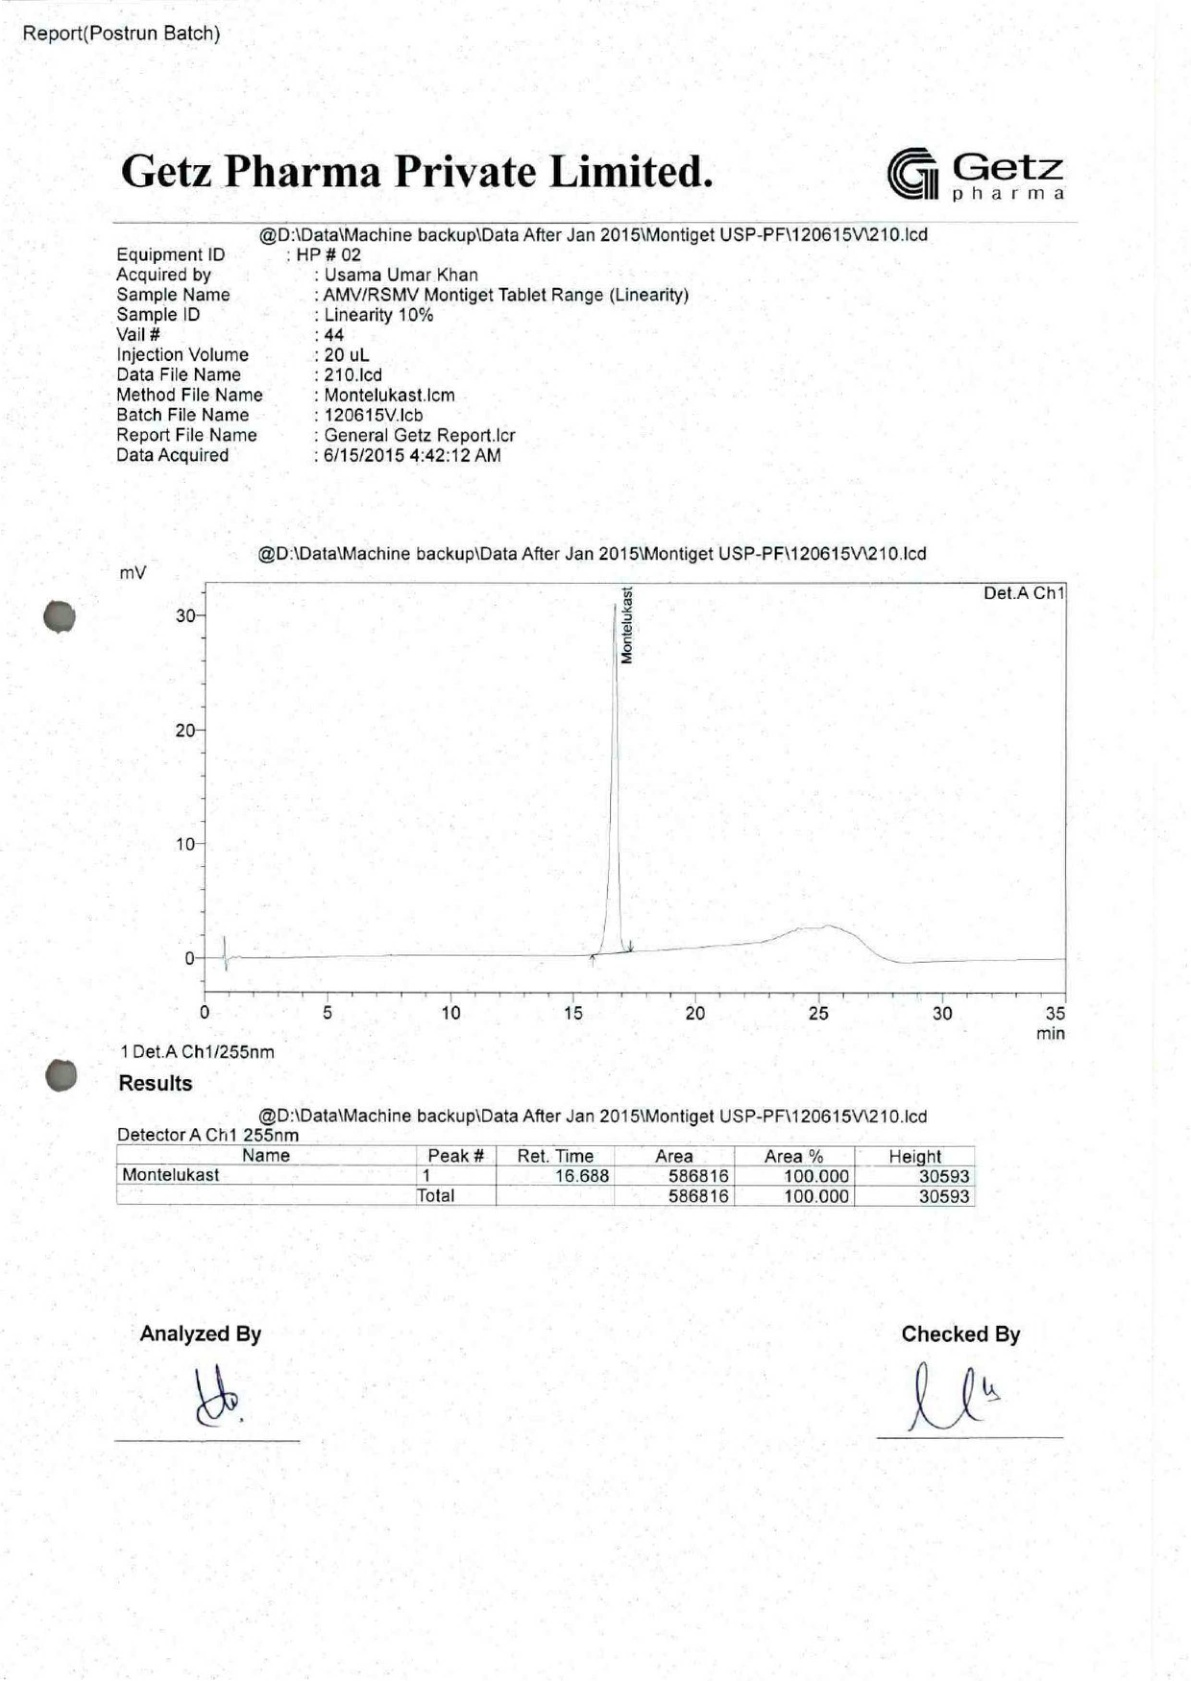full_lined: (116, 1142, 976, 1207)
nolines: (112, 245, 691, 465)
